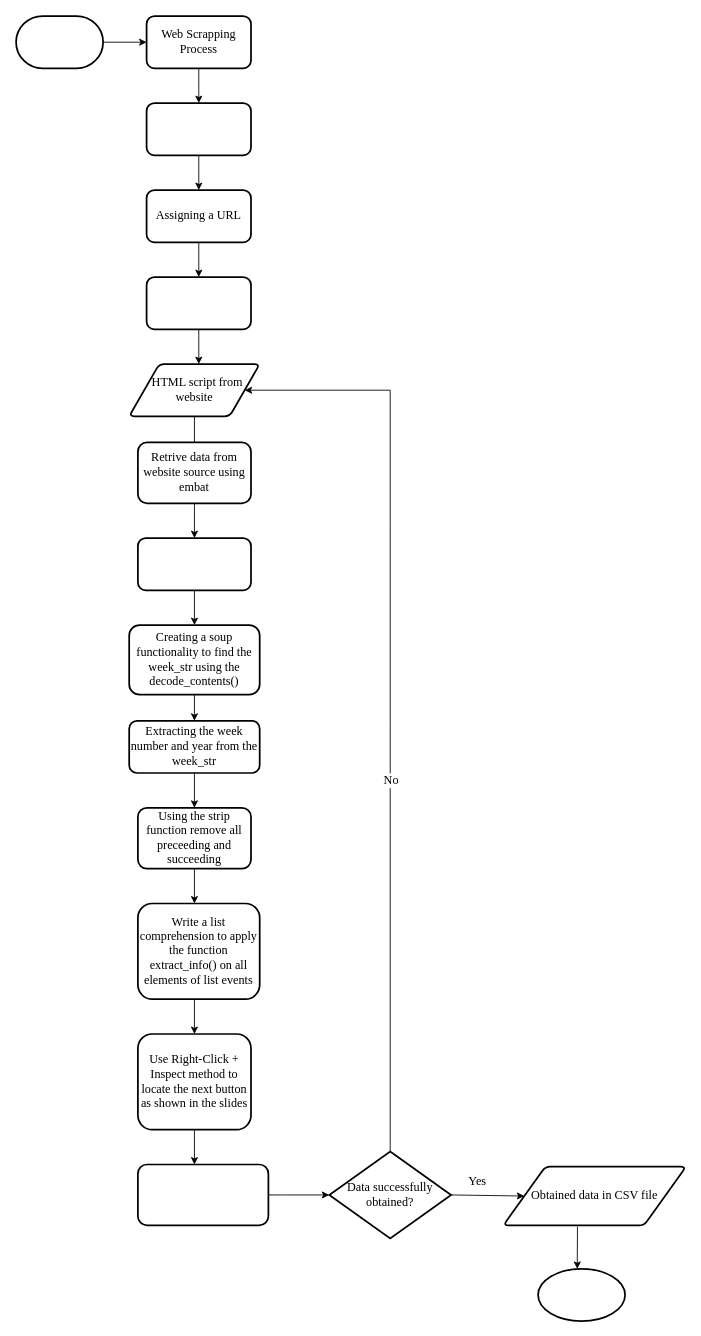
Image size: 701x1336. Some labels were removed from this diagram. The centre of each missing label's shape, as x and y in pixels:
"Calling find using soup through next button" belongs at [203,1194].
"Converting a soup object" belongs at [198,303].
"End" belongs at [581,1295].
"Importing a requests, beautiful soup and pandas" belongs at [198,129].
"Start" belongs at [59,42].
"Use Request API to fetch the data stored in URL" belongs at [194,564].
